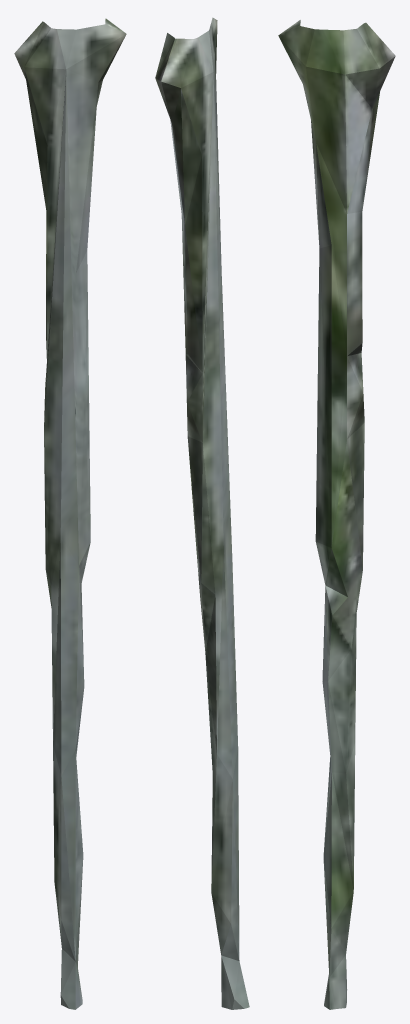
3 views of the same model, side by side, from view 1: azimuth 90°, elevation 25°; view 2: azimuth 150°, elevation 25°; view 3: azimuth 270°, elevation 25° (orthographic). The views are drawn at different scales.
Bounding box in the file's own units: 0.5079 × 5.9 × 0.6257.
1 material, 1 textured.
